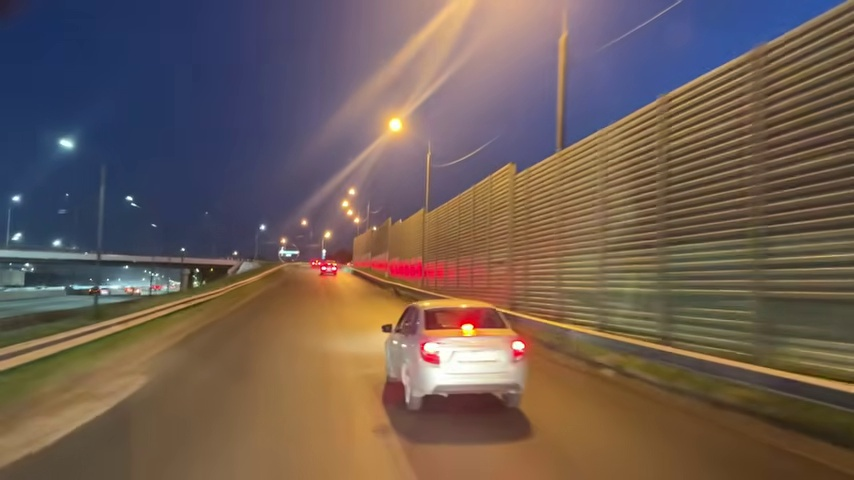acesa: (384, 113, 407, 138), (340, 191, 359, 221), (56, 134, 77, 154), (9, 192, 24, 207), (298, 218, 309, 230)
apagada: (123, 194, 140, 212)
